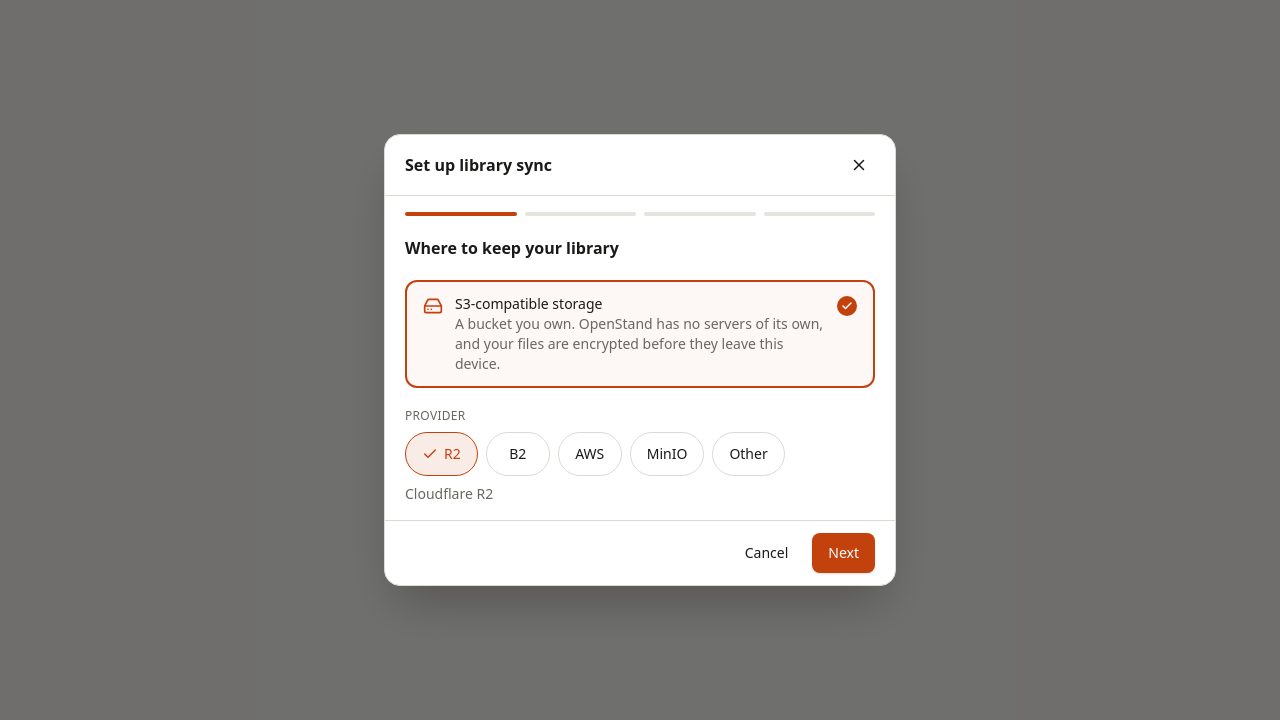
SetupWizard › validates the form before testing
What coordinates should you click on to do the following:
click the button "Next"
I would click on:
 (844, 553)
Its box is [812, 533, 875, 573].
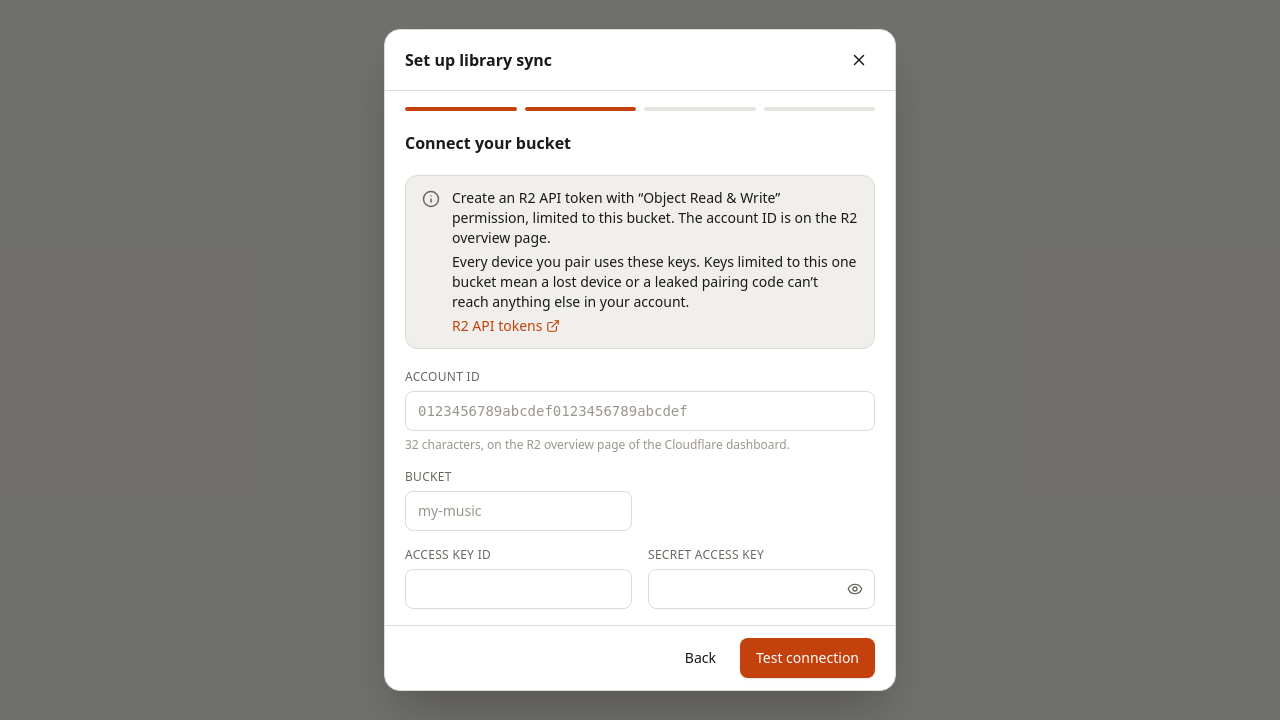
What coordinates should you click on to do the following:
click the button "Test connection"
I would click on:
 (808, 658)
Its box is [740, 638, 875, 678].
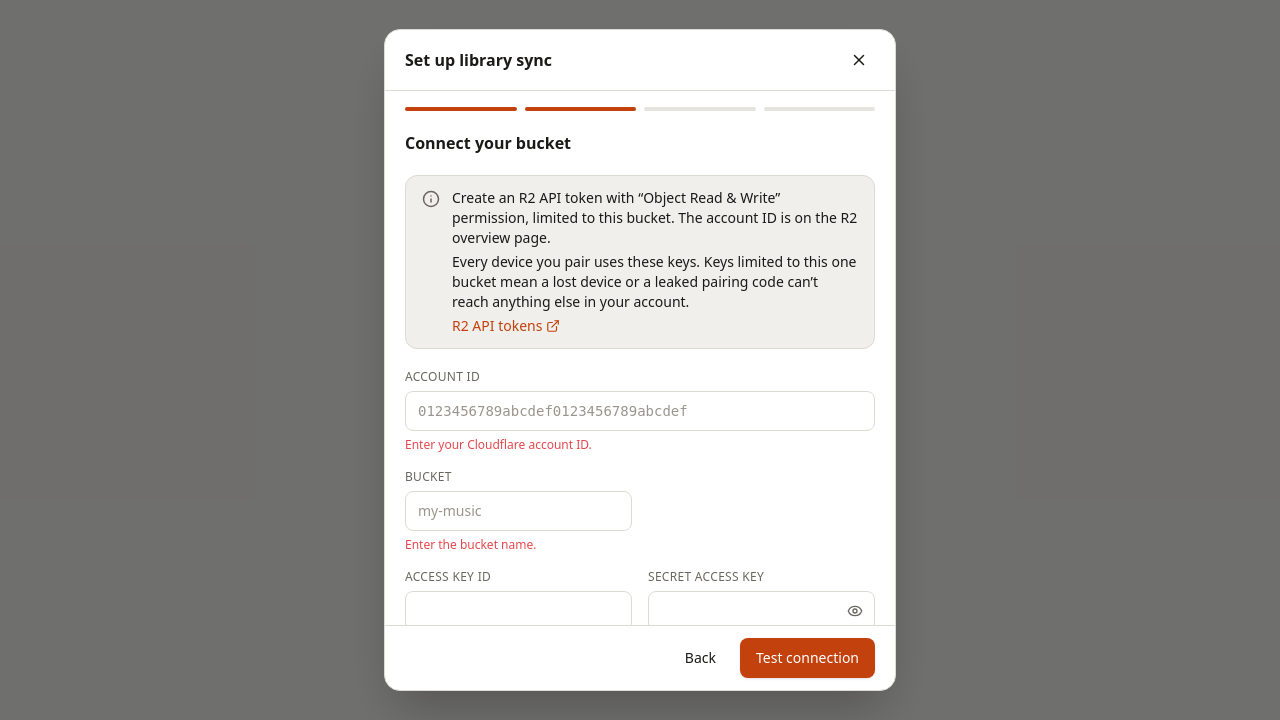
Check: the text "Enter your Cloudflare account ID." is shown, box [405, 436, 592, 453]
Check: the text "Enter the bucket name." is shown, box [405, 536, 536, 553]
